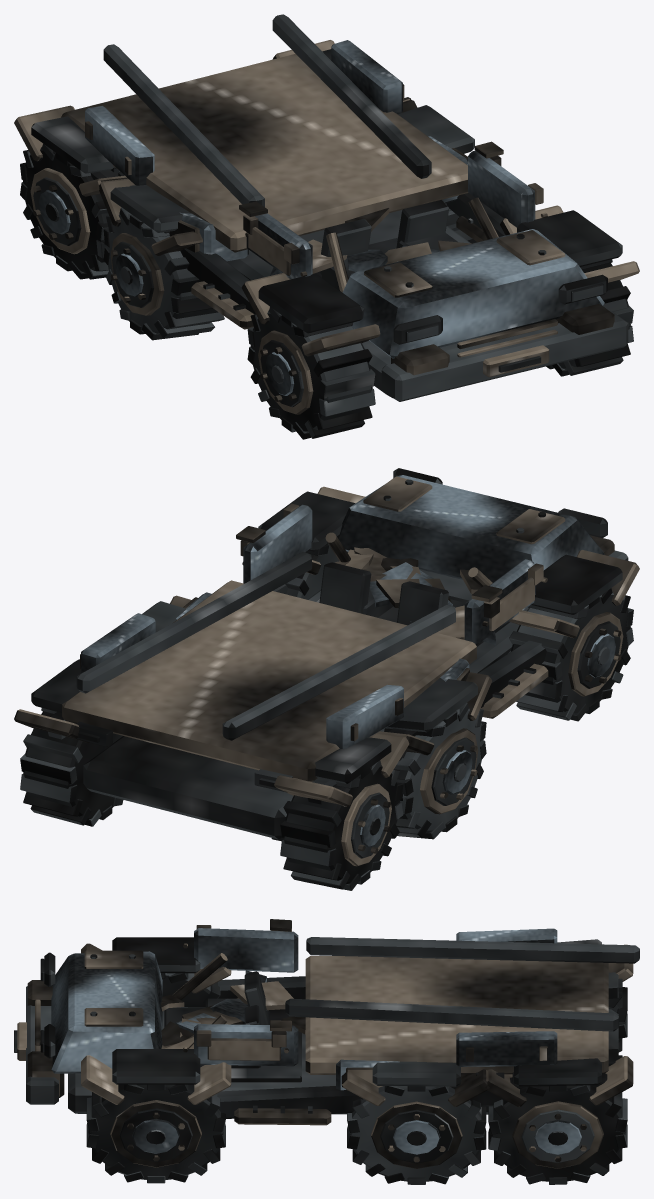
The model's file is shkval-3.glb.
3 views of the same model, one above another, from view 1: azimuth 30°, elevation 25°; view 2: azimuth 150°, elevation 25°; view 3: azimuth 270°, elevation 25° (orthographic). The views are drawn at different scales.
Visible parts, largest first — view 1: wreck.shkval.structure, wreck.shkval.neutral, wreck.shkval.team; view 2: wreck.shkval.structure, wreck.shkval.neutral, wreck.shkval.team; view 3: wreck.shkval.structure, wreck.shkval.neutral, wreck.shkval.team.
Part boxes in pixels (x1=…): wreck.shkval.structure: x1=20, y1=14, x2=633, y2=439; wreck.shkval.neutral: x1=14, y1=40, x2=639, y2=414; wreck.shkval.team: x1=38, y1=40, x2=604, y2=395; wreck.shkval.structure: x1=20, y1=468, x2=633, y2=890; wreck.shkval.neutral: x1=14, y1=476, x2=639, y2=866; wreck.shkval.team: x1=81, y1=475, x2=615, y2=847; wreck.shkval.structure: x1=14, y1=937, x2=639, y2=1184; wreck.shkval.neutral: x1=17, y1=919, x2=633, y2=1168; wreck.shkval.team: x1=51, y1=928, x2=581, y2=1154.
Size of the model in its own units: 1.86 by 0.9568 by 3.41.
Materials: 3 (3 with a texture image).
